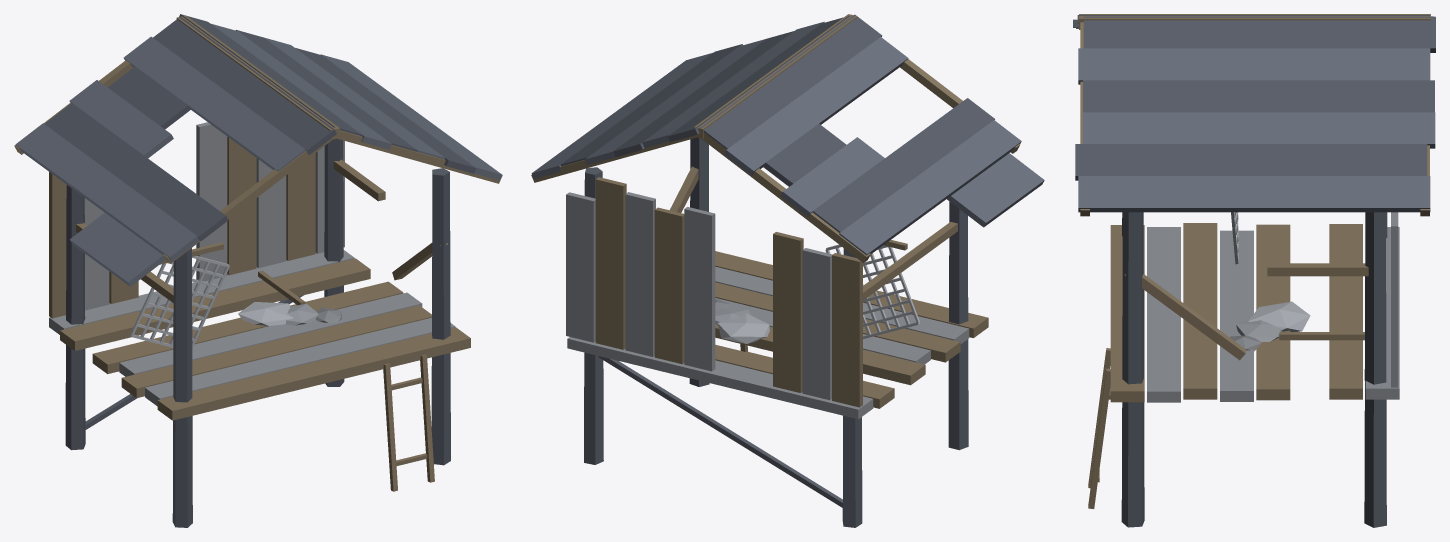
Rendered from net_loft_broken.glb.
3 views of the same model, side by side, from view 1: azimuth 30°, elevation 25°; view 2: azimuth 150°, elevation 25°; view 3: azimuth 270°, elevation 25° (orthographic). The views are drawn at different scales.
Parts seen in each view (by area): view 1: driftwood_d35, slate_d20, slate_d5, silverfog_d30, silverfog_d15; view 2: slate_d20, driftwood_d35, slate_d5, silverfog_d30, silverfog_d15; view 3: slate_d20, slate_d5, driftwood_d35, silverfog_d30, silverfog_d15, silverfog_d25.
Part boxes in pixels (left/top/right/bottom): driftwood_d35: left=14, top=15, right=499, bottom=491; slate_d20: left=45, top=14, right=476, bottom=527; slate_d5: left=15, top=23, right=502, bottom=286; silverfog_d30: left=49, top=122, right=455, bottom=406; silverfog_d15: left=130, top=256, right=293, bottom=348; slate_d20: left=560, top=14, right=994, bottom=527; driftwood_d35: left=531, top=14, right=1019, bottom=408; slate_d5: left=531, top=21, right=1044, bottom=255; silverfog_d30: left=566, top=192, right=969, bottom=419; silverfog_d15: left=717, top=244, right=920, bottom=343; slate_d20: left=1073, top=15, right=1435, bottom=527; slate_d5: left=1076, top=16, right=1435, bottom=212; driftwood_d35: left=1079, top=14, right=1430, bottom=508; silverfog_d30: left=1147, top=212, right=1399, bottom=402; silverfog_d15: left=1231, top=212, right=1310, bottom=331; silverfog_d25: left=1236, top=319, right=1282, bottom=341.
Size of the model in its own units: 3.98 by 3.96 by 2.99.
